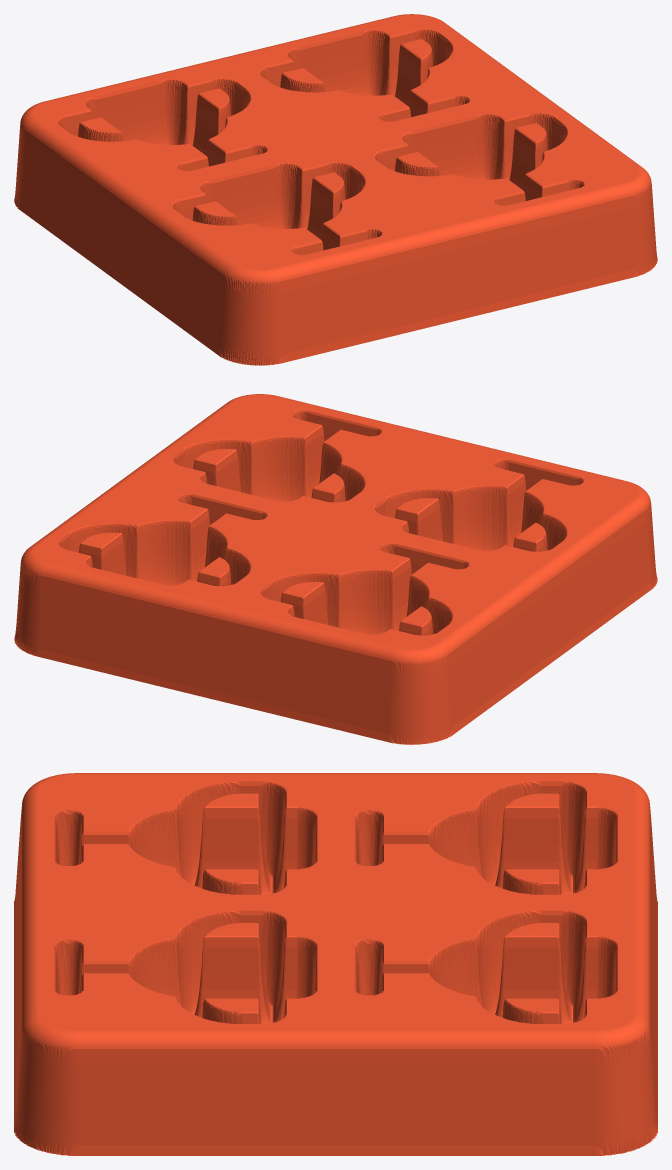
File: mold.glb
The picture shows the model from 3 angles, top to bottom: view 1: azimuth 30°, elevation 25°; view 2: azimuth 150°, elevation 25°; view 3: azimuth 270°, elevation 25°; orthographic projection. The views are drawn at different scales.
Visible parts, largest first — view 1: geometry_0; view 2: geometry_0; view 3: geometry_0.
Part boxes in pixels (<box>): geometry_0: <box>14,14,657,365</box>; geometry_0: <box>14,394,657,744</box>; geometry_0: <box>14,773,657,1155</box>.
Bounding box in the file's own units: 0.0942 × 0.0182 × 0.0926.
